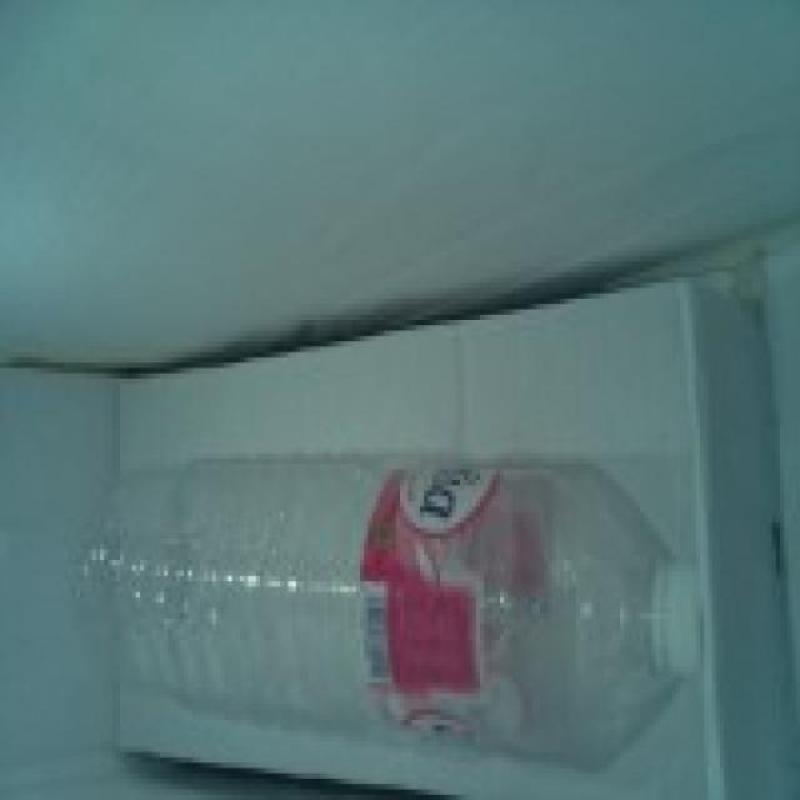botella: (75, 457, 704, 772)
